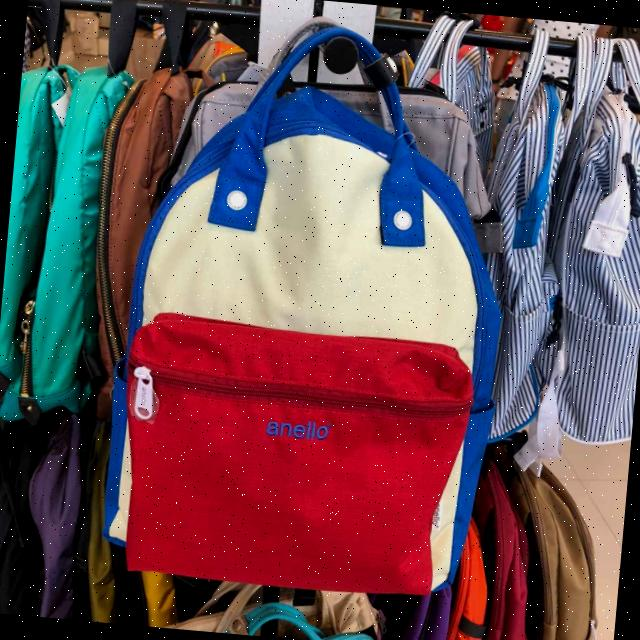handbag: (98, 70, 522, 606)
